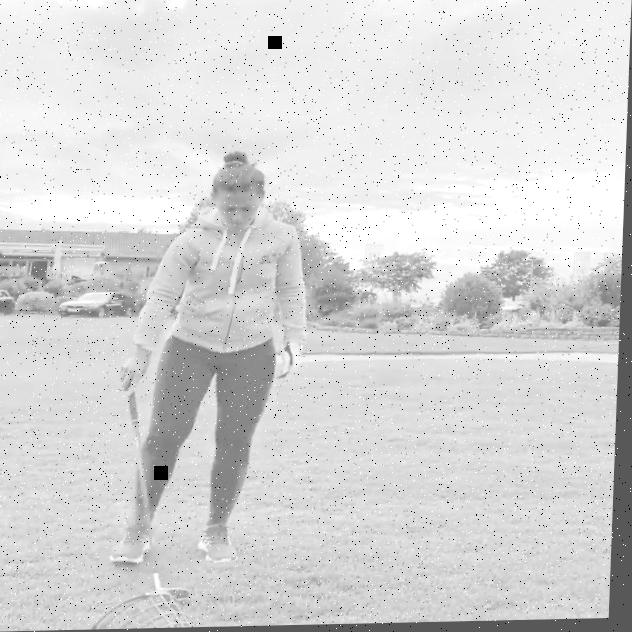ClubHead: (164, 587, 193, 601)
